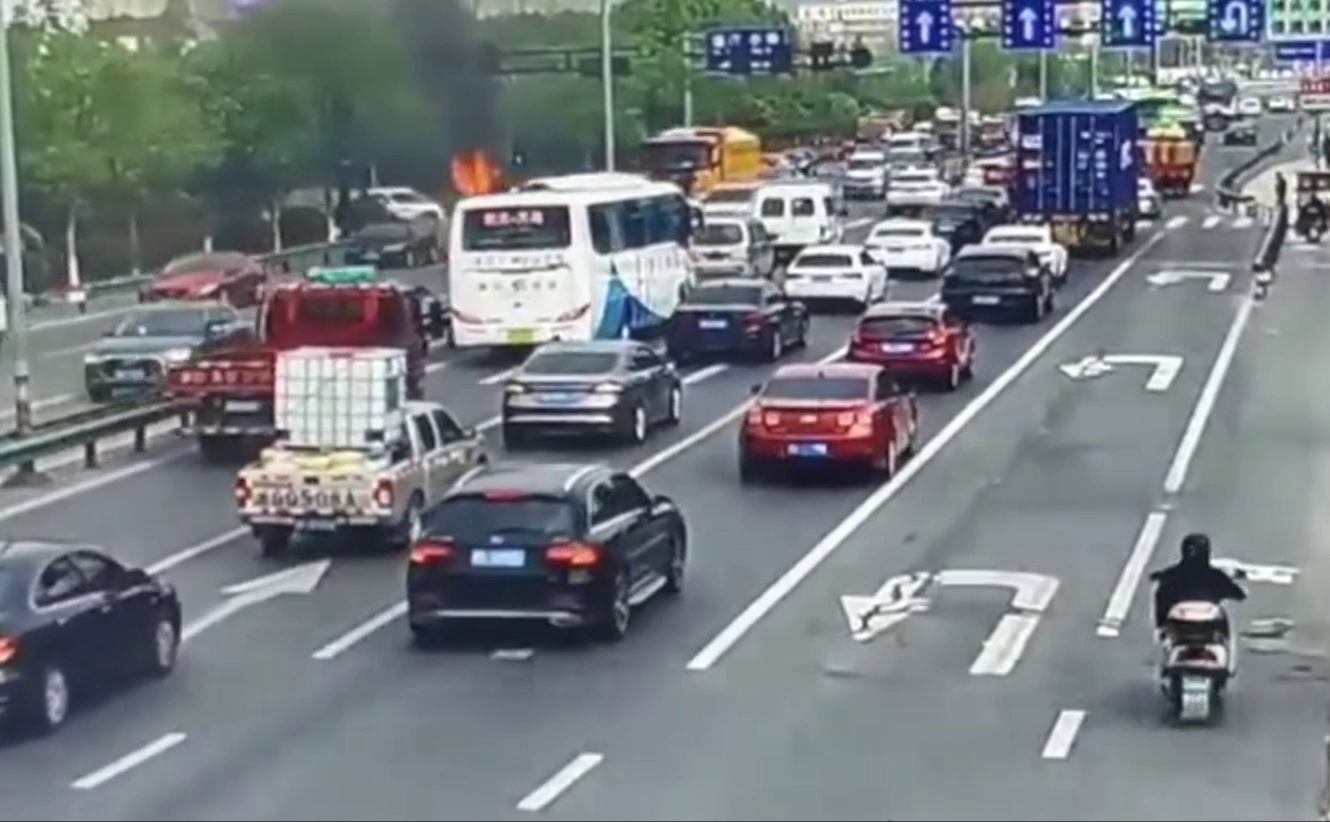smoke: (335, 16, 520, 187)
